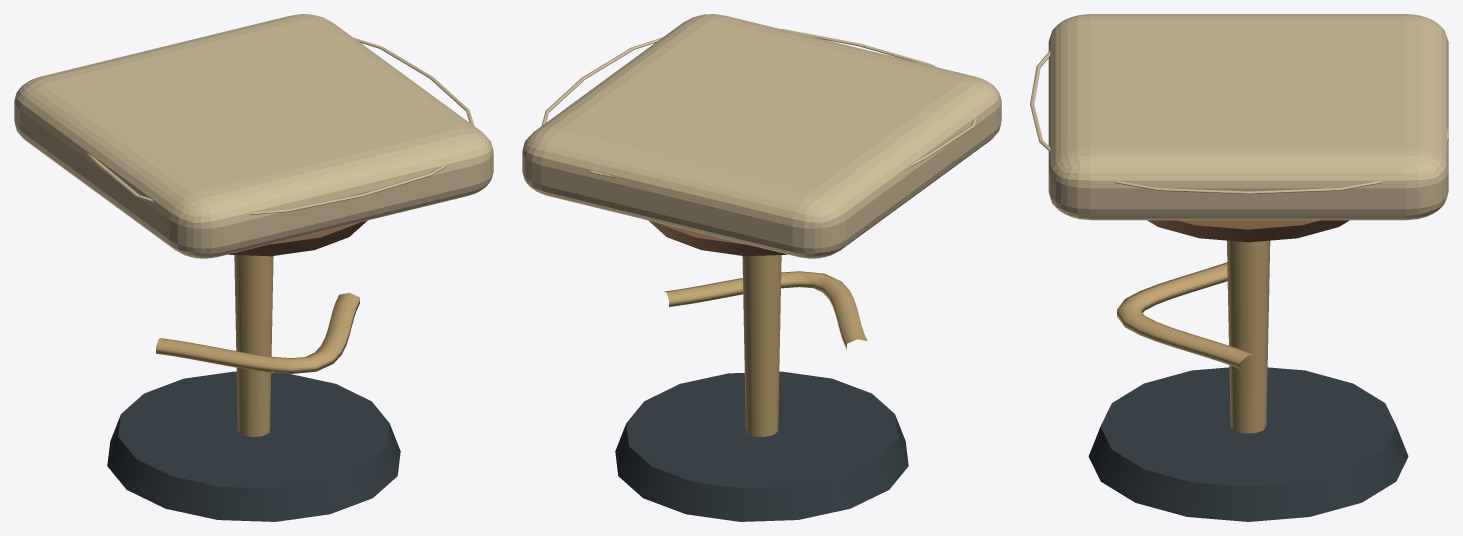
Rendered from chair-6-4.glb.
3 renders of one model, left to right at view 1: azimuth 30°, elevation 25°; view 2: azimuth 150°, elevation 25°; view 3: azimuth 270°, elevation 25°, orthographic. The views are drawn at different scales.
Visible parts, largest first — view 1: tailored-cushion, part (×3); view 2: tailored-cushion, part (×3); view 3: tailored-cushion, part (×3).
Boxes of the visible parts, x1=… form: tailored-cushion: x1=14, y1=14, x2=493, y2=258; part (×3): x1=107, y1=220, x2=400, y2=521; tailored-cushion: x1=522, y1=14, x2=1001, y2=258; part (×3): x1=615, y1=220, x2=908, y2=521; tailored-cushion: x1=1030, y1=14, x2=1448, y2=220; part (×3): x1=1088, y1=220, x2=1408, y2=521.
Size of the model in its own units: 1 by 1 by 1.
